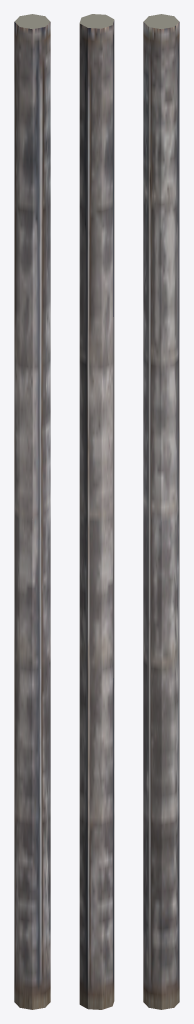
Rendered from bostaff84_wtf.obj.
3 views of the same model, side by side, from view 1: azimuth 90°, elevation 25°; view 2: azimuth 150°, elevation 25°; view 3: azimuth 270°, elevation 25° (orthographic).
Parts seen in each view (by area): view 1: group2; view 2: group2; view 3: group2.
Boxes of the visible parts, box(x1,y1,x2,y2) form: group2: box(14, 14, 50, 1009); group2: box(79, 14, 114, 1009); group2: box(143, 14, 179, 1009).
Bounding box in the file's own units: 22 × 660 × 22.
